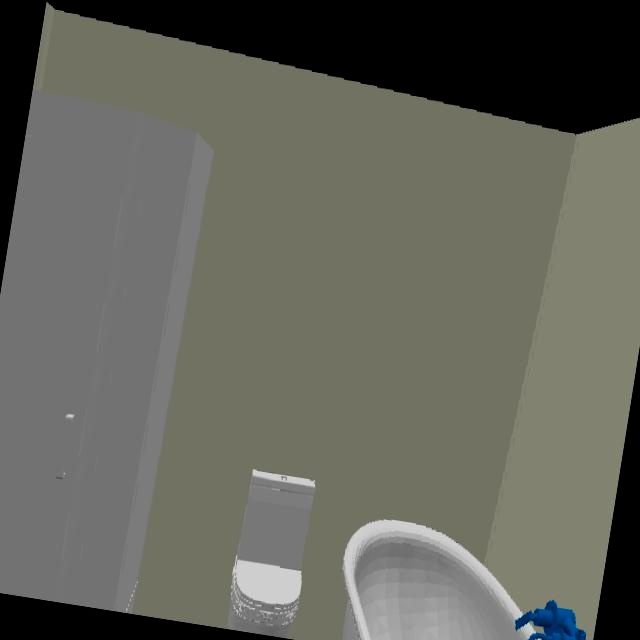bathtube: (340, 521, 529, 640)
shower: (0, 91, 215, 613)
toilet: (230, 471, 317, 638)
